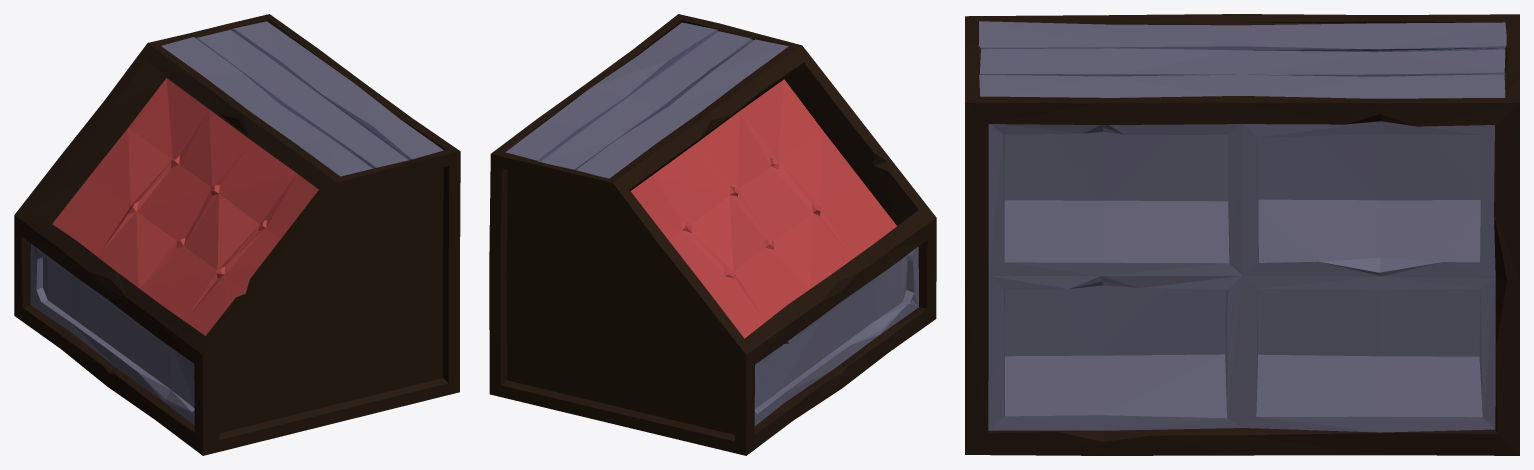
The model's file is SFFA_Table_Modular_002.fbx.
3 renders of one model, left to right at view 1: azimuth 30°, elevation 25°; view 2: azimuth 150°, elevation 25°; view 3: azimuth 270°, elevation 25°, orthographic. The views are drawn at different scales.
Parts seen in each view (by area): view 1: SFFA_Table_Modular_002; view 2: SFFA_Table_Modular_002; view 3: SFFA_Table_Modular_002.
Part boxes in pixels (left/top/right/bottom): SFFA_Table_Modular_002: left=14, top=14, right=460, bottom=455; SFFA_Table_Modular_002: left=489, top=14, right=936, bottom=455; SFFA_Table_Modular_002: left=965, top=14, right=1519, bottom=455.
Bounding box in the file's own units: 119 × 106 × 150.
